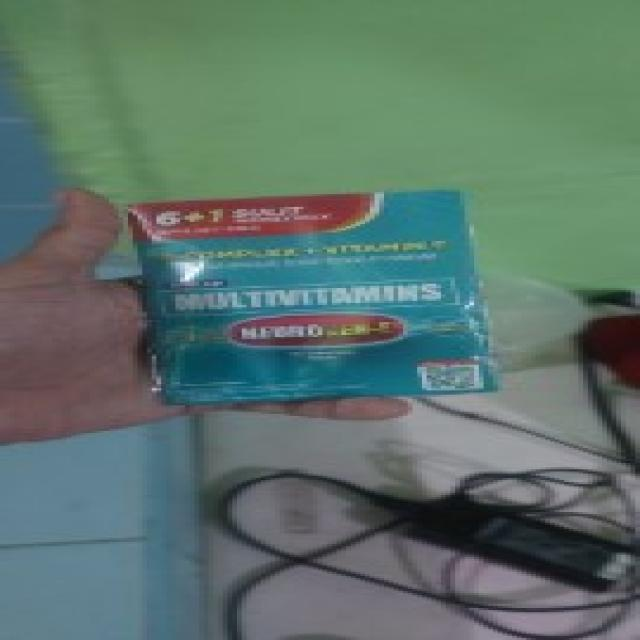Cacat: (125, 189, 510, 407)
